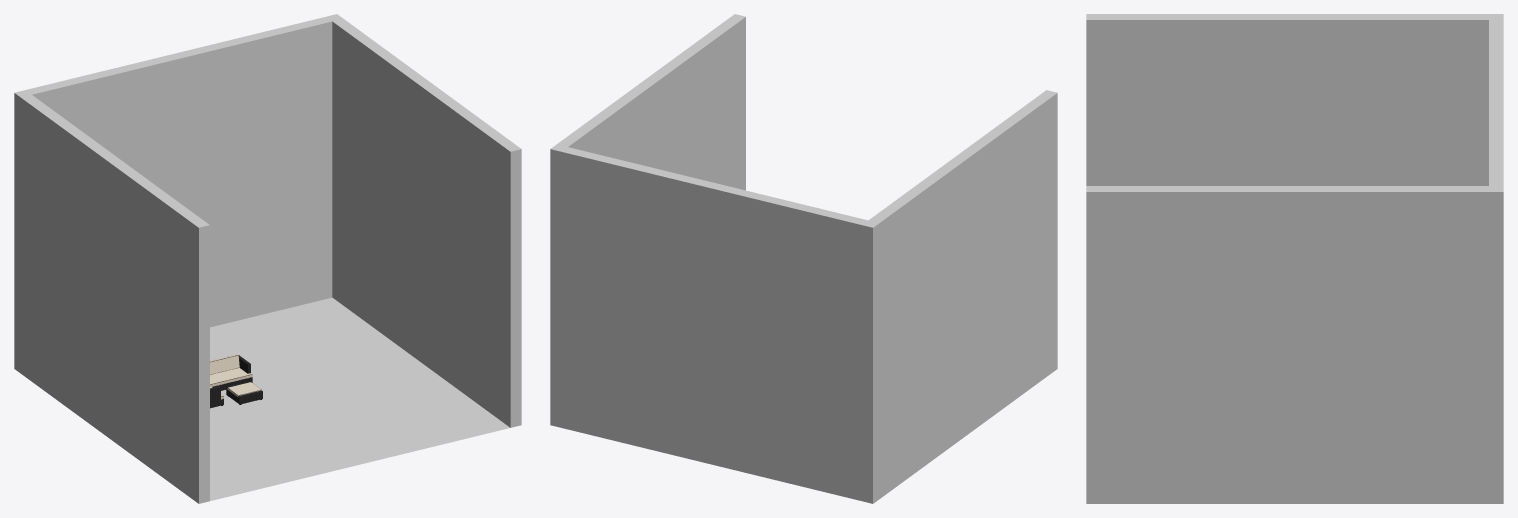
The model's file is furnitures 7.dae.
The picture shows the model from 3 angles, left to right: view 1: azimuth 30°, elevation 25°; view 2: azimuth 150°, elevation 25°; view 3: azimuth 270°, elevation 25°; orthographic projection. The views are drawn at different scales.
Visible parts, largest first — view 1: SketchUp (×2); view 2: SketchUp; view 3: SketchUp.
Part boxes in pixels (x1,y1,x2,y2): SketchUp (×2): (14, 14, 521, 503); SketchUp: (550, 14, 1057, 503); SketchUp: (1086, 14, 1503, 503).
Size of the model in its own units: 437 by 433 by 357.
Materials: 5 (3 with a texture image).
